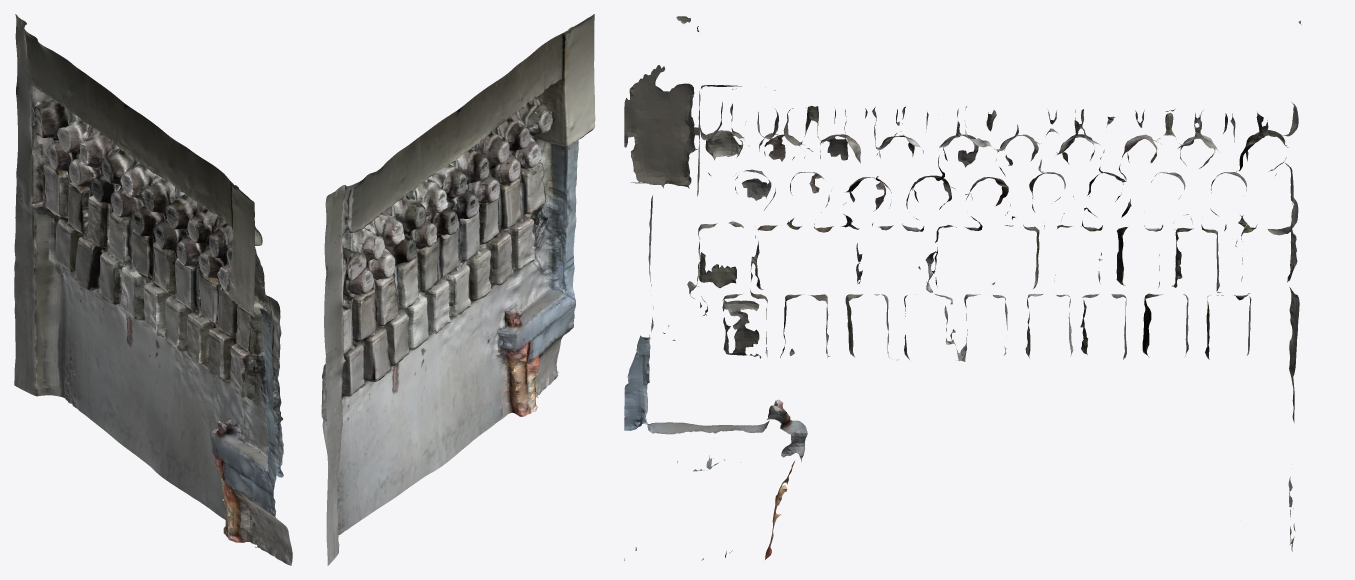
The model's file is electric_meters_and_panels_1.glb.
3 renders of one model, left to right at view 1: azimuth 30°, elevation 25°; view 2: azimuth 150°, elevation 25°; view 3: azimuth 270°, elevation 25°, orthographic. The views are drawn at different scales.
Visible parts, largest first — view 1: Object_4; view 2: Object_4; view 3: Object_4.
Part boxes in pixels (x1=…): Object_4: x1=14, y1=14, x2=292, y2=565; Object_4: x1=321, y1=14, x2=595, y2=565; Object_4: x1=624, y1=16, x2=1301, y2=560.
Bounding box in the file's own units: 0.2611 × 2.12 × 2.62.
1 material, 1 textured.
